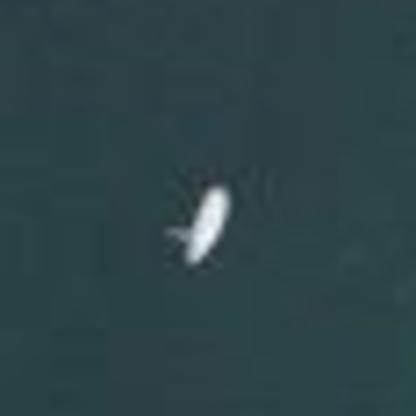ship: (153, 166, 252, 280)
